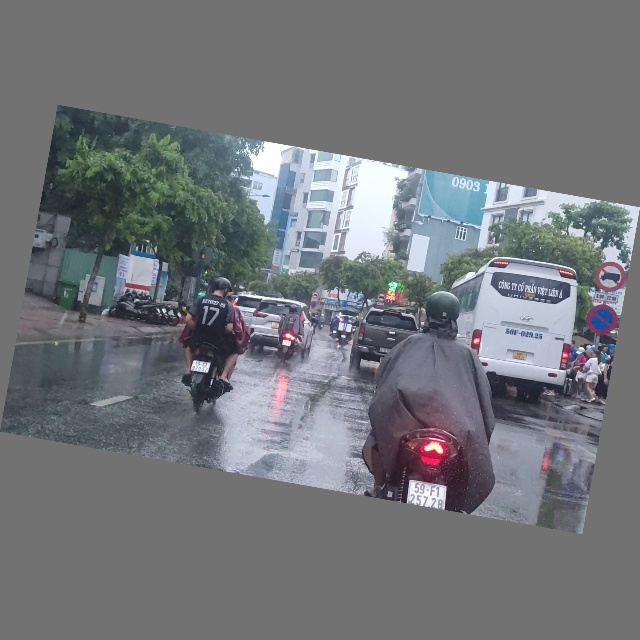P.106a*Xe tai: (593, 259, 629, 295), (376, 293, 387, 304), (311, 292, 319, 299)
P.131a: (584, 300, 621, 339)
